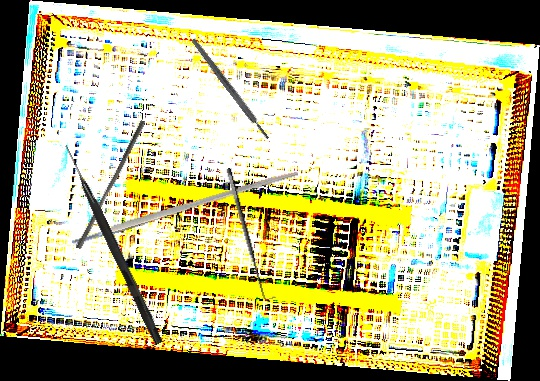Hook Surgical: (59, 143, 166, 346), (224, 165, 277, 302)
Pusher: (75, 117, 146, 252)
Scalpel Handle: (70, 167, 300, 247), (190, 37, 271, 141)
